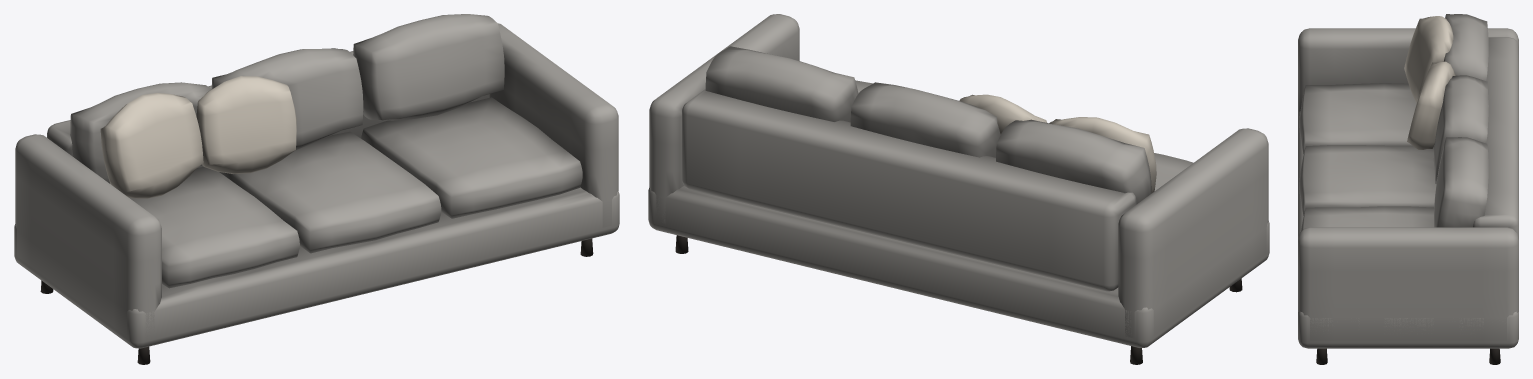
The model's file is canape3.glb.
3 renders of one model, left to right at view 1: azimuth 30°, elevation 25°; view 2: azimuth 150°, elevation 25°; view 3: azimuth 270°, elevation 25°, orthographic. The views are drawn at different scales.
Parts seen in each view (by area): view 1: socle, assises, dossiers, coussins, pieds; view 2: socle, dossiers, coussins, assises, pieds; view 3: socle, assises, dossiers, coussins, pieds.
Part boxes in pixels (x1=…): socle: x1=14, y1=23, x2=619, y2=348; assises: x1=129, y1=97, x2=582, y2=288; dossiers: x1=70, y1=14, x2=504, y2=183; coussins: x1=100, y1=76, x2=296, y2=198; pieds: x1=40, y1=238, x2=593, y2=364; socle: x1=648, y1=14, x2=1269, y2=347; dossiers: x1=705, y1=46, x2=1151, y2=203; coussins: x1=959, y1=94, x2=1156, y2=193; assises: x1=855, y1=80, x2=1193, y2=190; pieds: x1=675, y1=235, x2=1242, y2=364; socle: x1=1298, y1=28, x2=1518, y2=348; assises: x1=1299, y1=83, x2=1436, y2=230; dossiers: x1=1433, y1=14, x2=1488, y2=227; coussins: x1=1404, y1=16, x2=1455, y2=149; pieds: x1=1316, y1=348, x2=1500, y2=364.
Size of the model in its own units: 2.1 by 0.8199 by 0.92.
